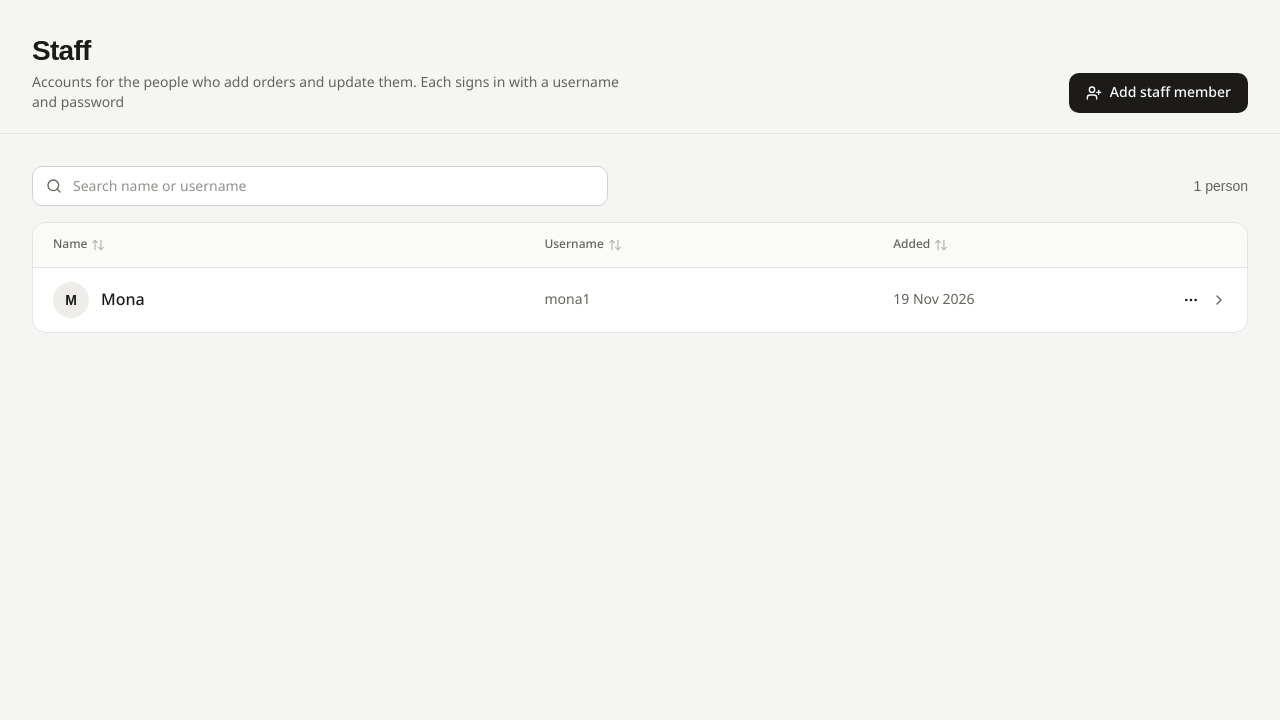
Scenario: StaffManager › shows why a username was refused
The image size is (1280, 720).
Click the button "Add staff member" at (1158, 93), box x1=1069 y1=73 x2=1248 y2=113
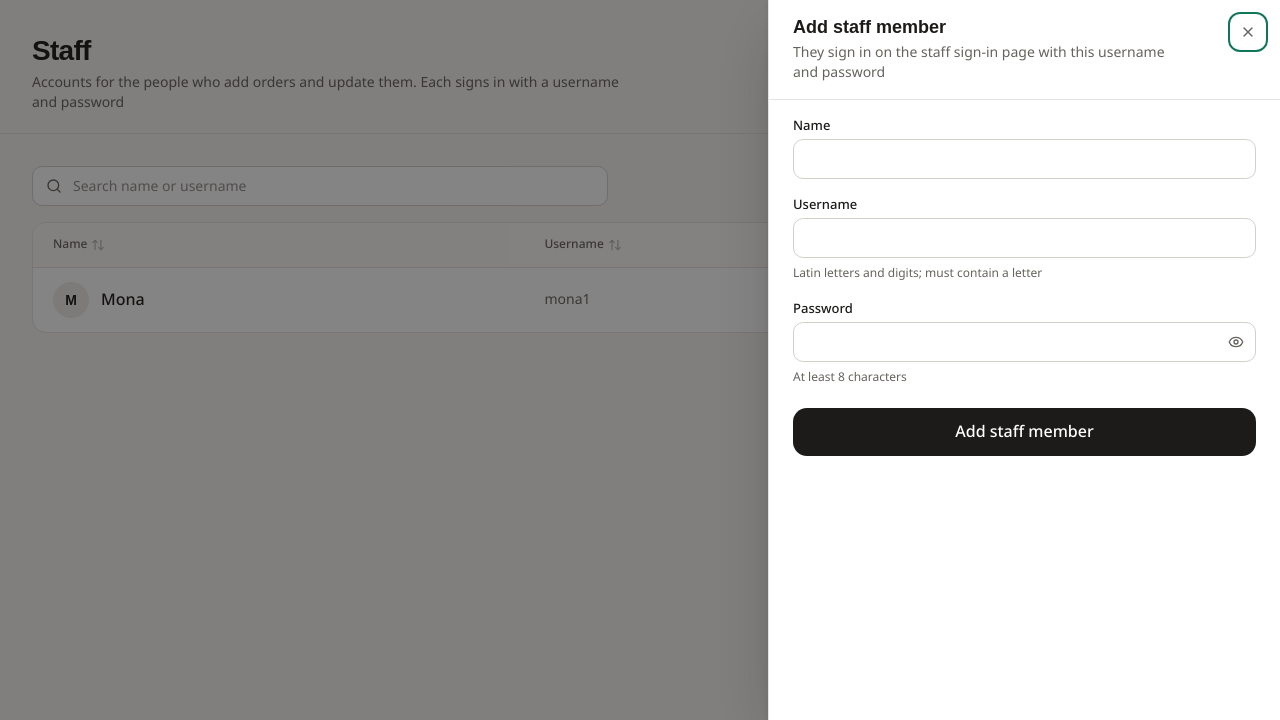
Type "Ali" into the field labelled "Name" at (1024, 158), box x1=793 y1=138 x2=1256 y2=178
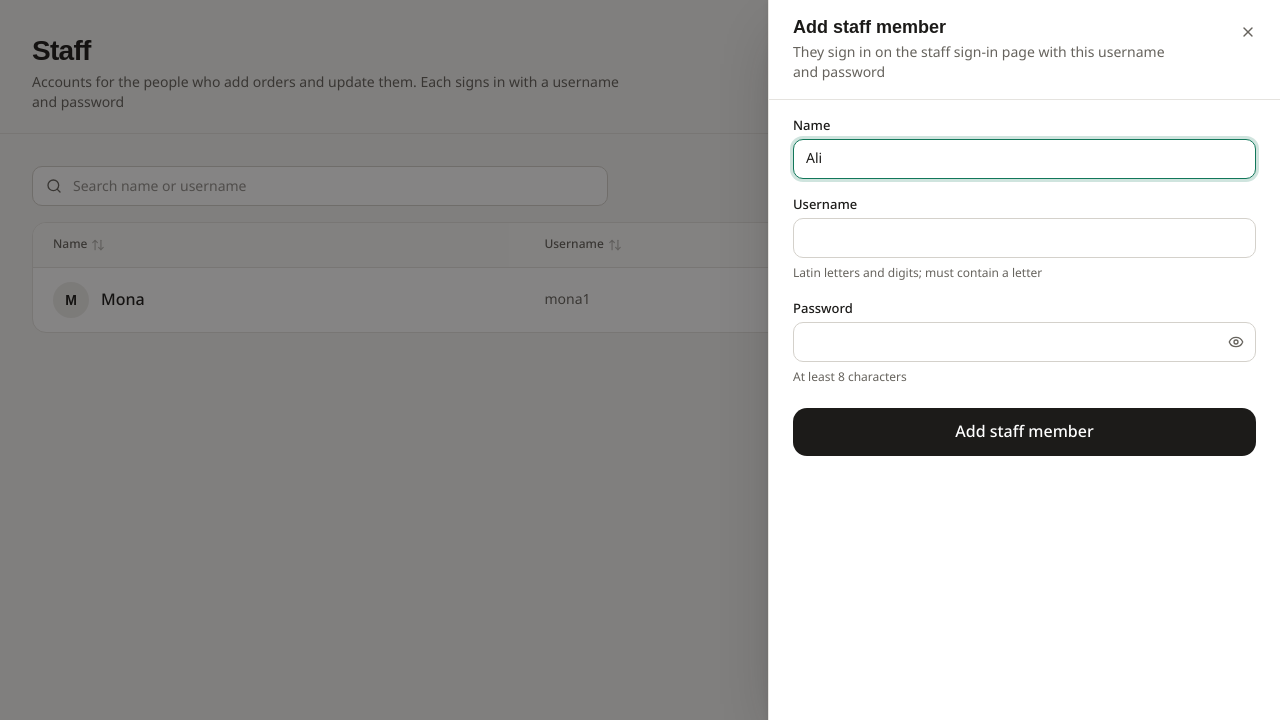
Type "mona1" into the field labelled "Username" at (1024, 238), box x1=793 y1=218 x2=1256 y2=258
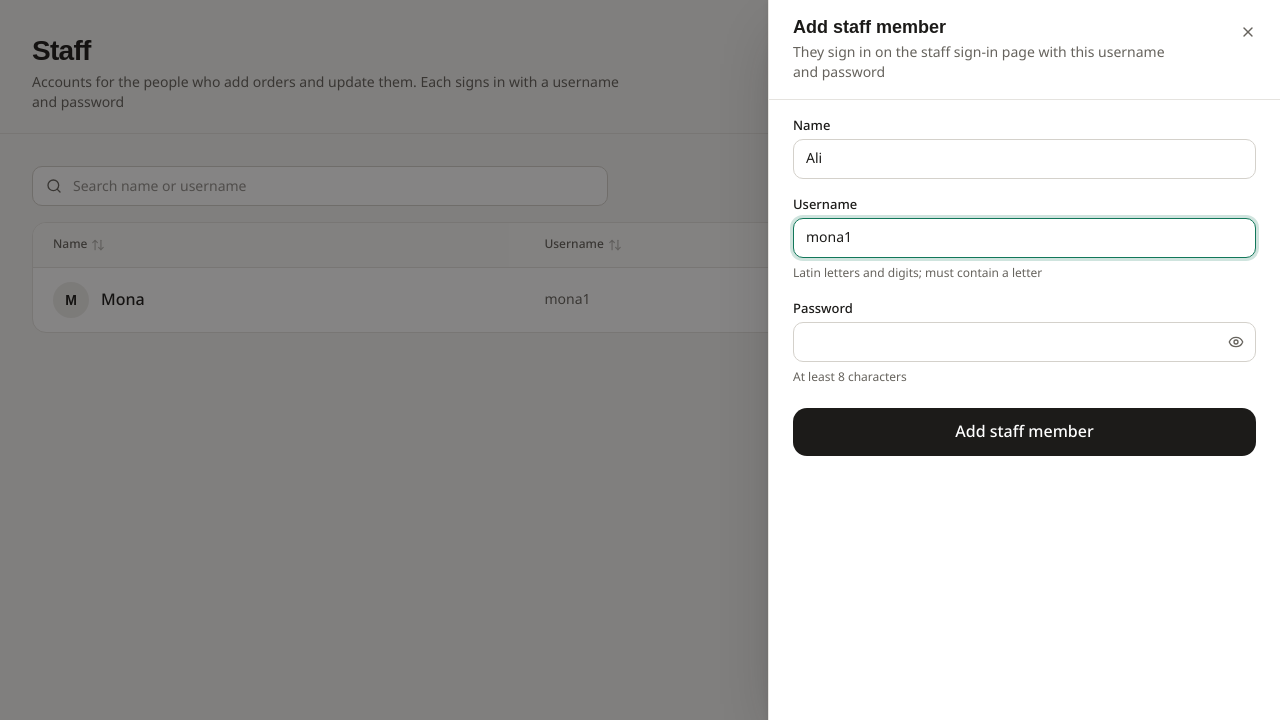
Type "secret-123" into the password field labelled "Password" at (1024, 342), box x1=793 y1=322 x2=1256 y2=362
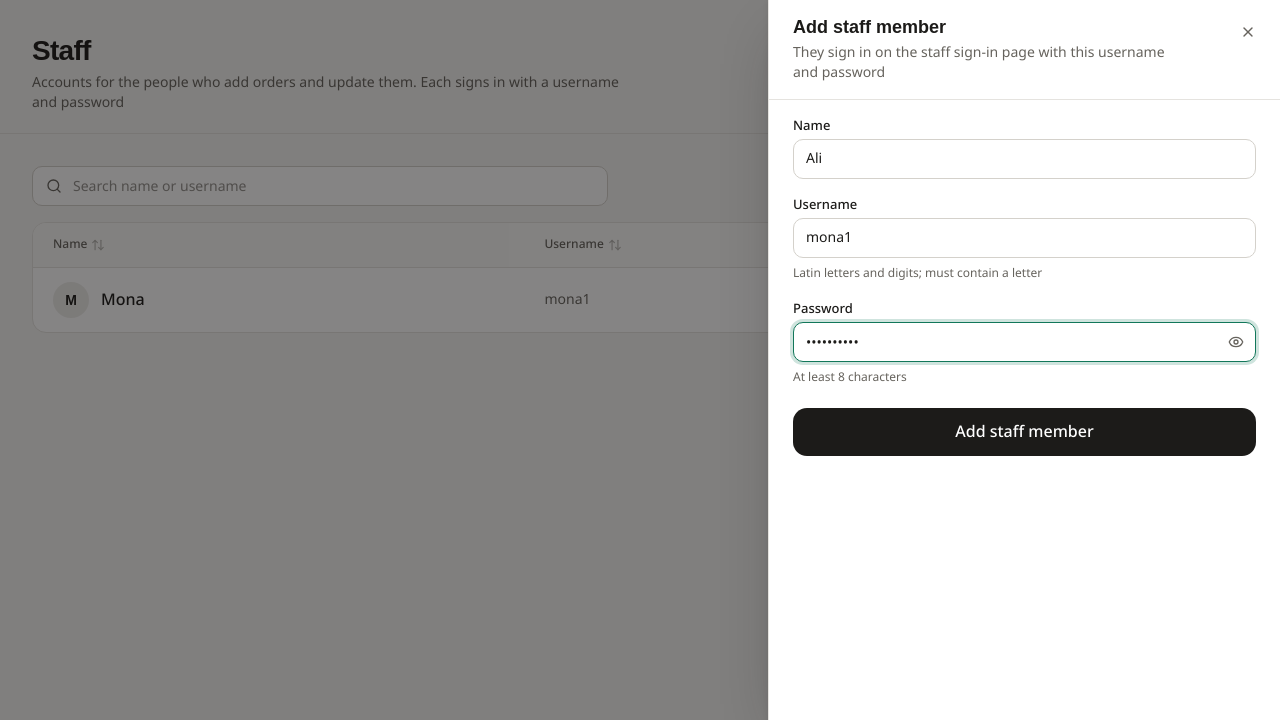
Click the button "Add staff member" at (1024, 432), box x1=793 y1=408 x2=1256 y2=456
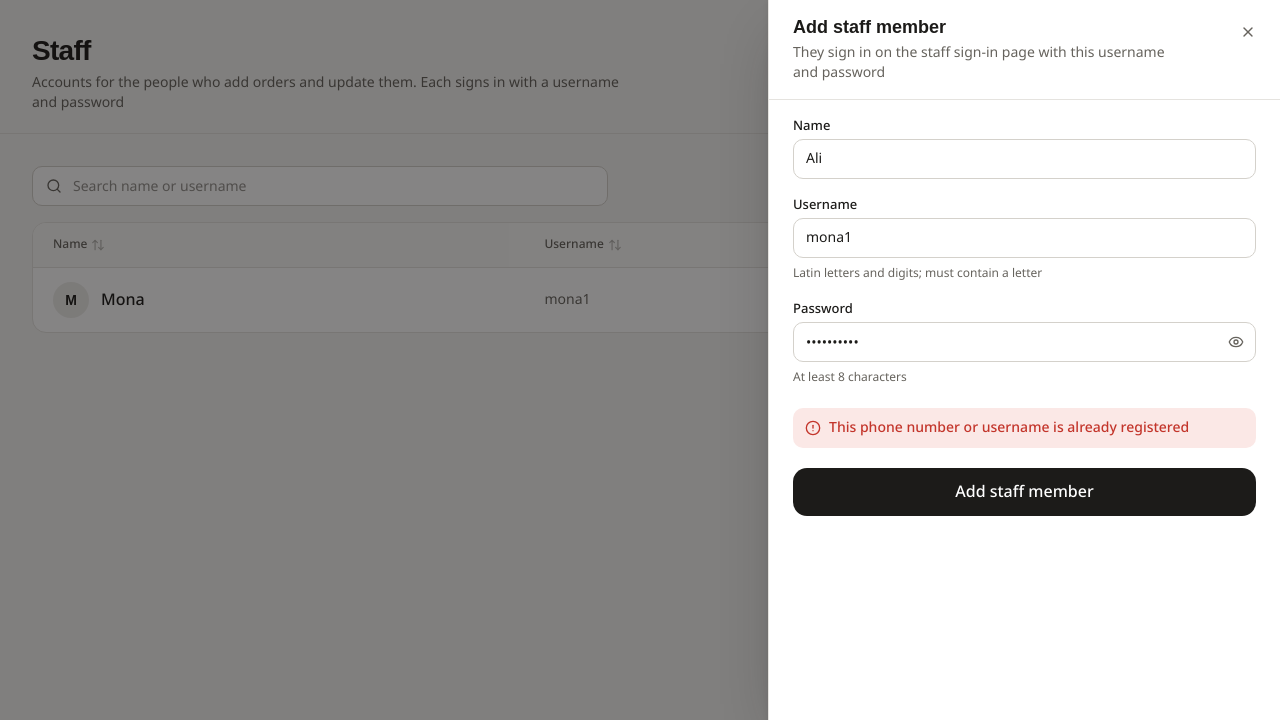
Check: the message shows "already registered", box x1=829 y1=412 x2=1189 y2=442
